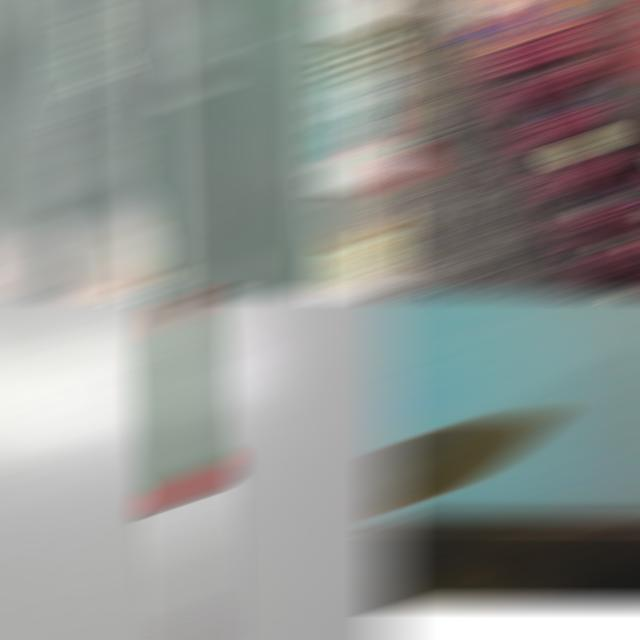Knife: (149, 298, 225, 636), (378, 420, 560, 507)
Knife_Handle: (198, 259, 251, 290)
